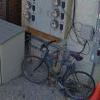Bicycle: (18, 36, 96, 100)
